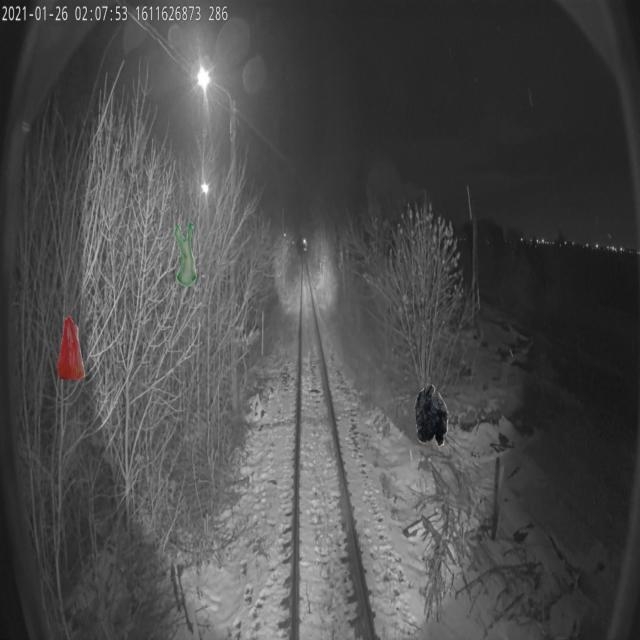plastic bag: (414, 383, 449, 447), (57, 316, 85, 380), (174, 222, 197, 286)
